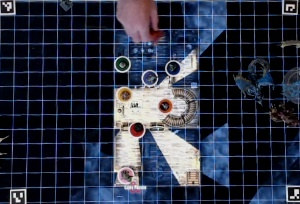blue: (165, 58, 180, 75)
green: (113, 55, 131, 74)
orange: (157, 98, 174, 115)
pink: (116, 165, 135, 185)
red: (128, 121, 147, 140)
violet: (139, 69, 159, 88)
yellow: (115, 85, 133, 103)
